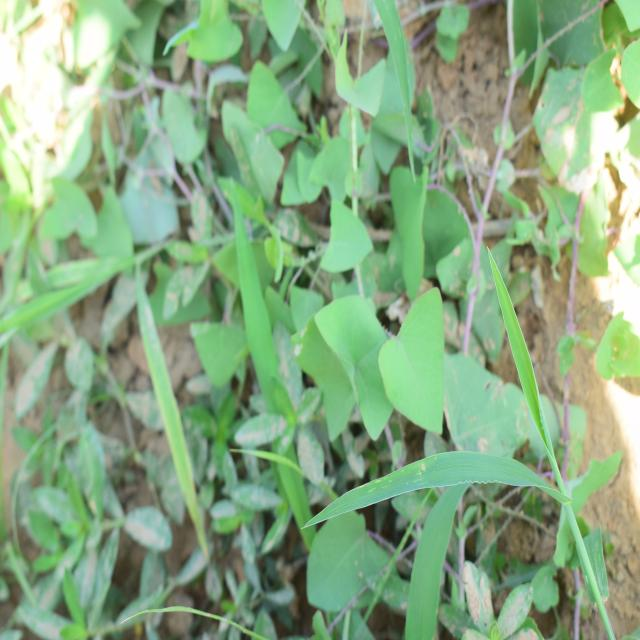Asiatic_Smartweed: (235, 55, 388, 285), (288, 259, 453, 460)
